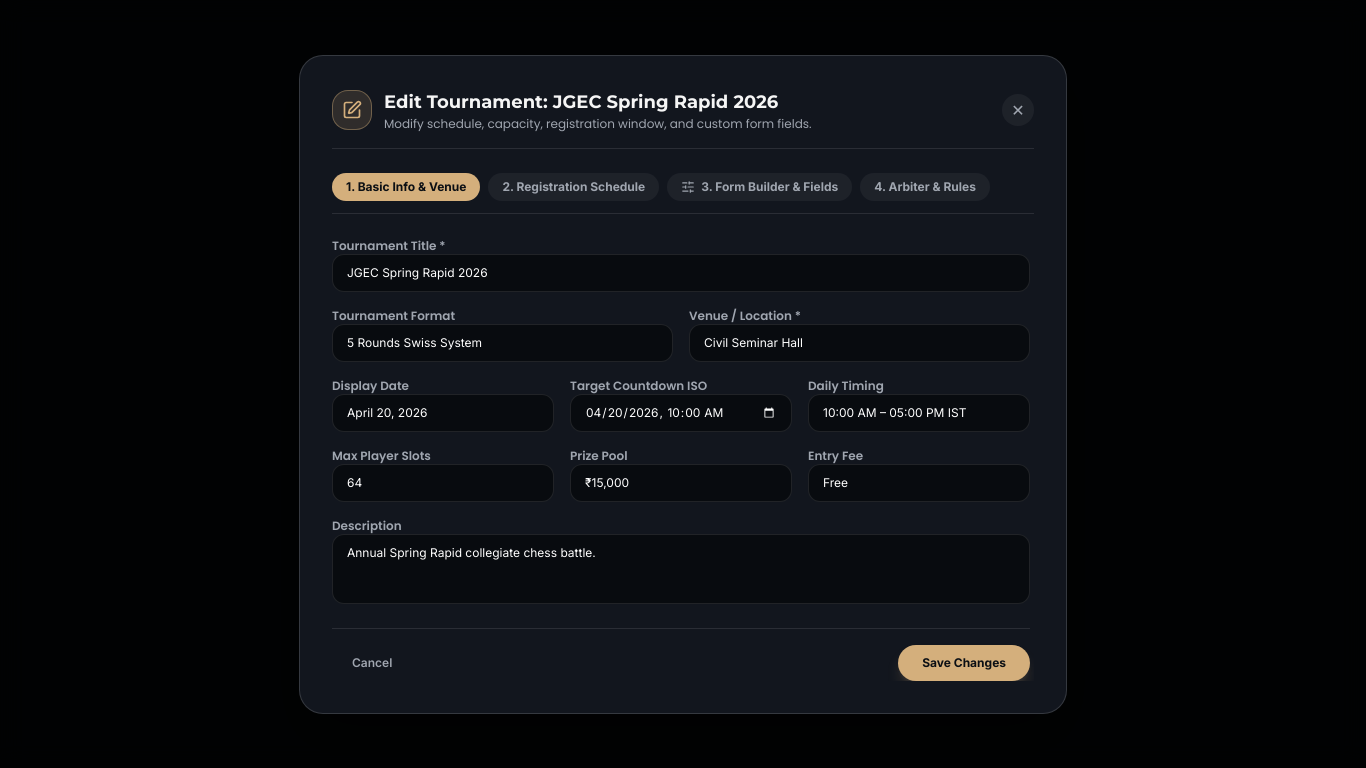
Test: TournamentFormModal Component › switches between tabs and displays respective section fields
The image size is (1366, 768).
// Switch to Tab 2: Registration Schedule
Click the button "2. Registration Schedule" at (574, 186), box [488,172,659,200]
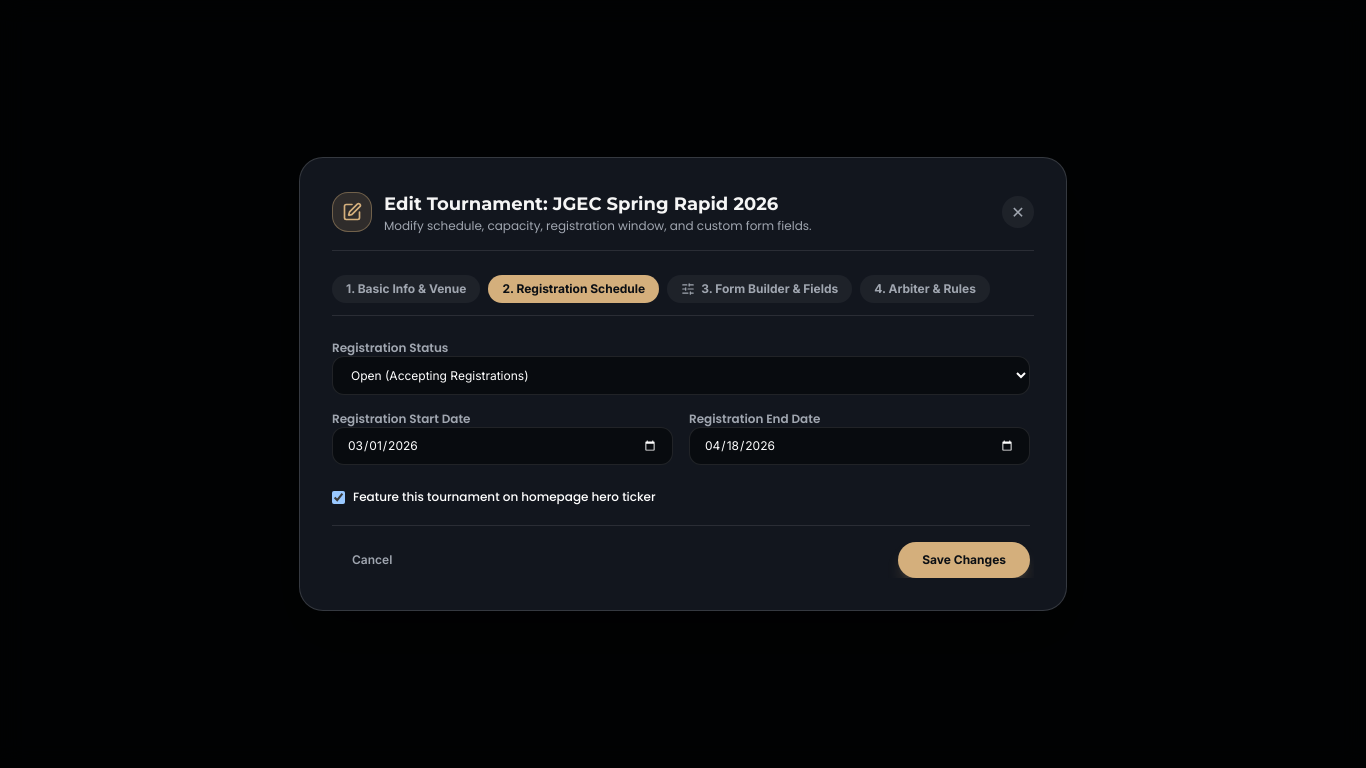
Now the text "Registration Status" is shown, box [332,340,448,356]
Now the text "Feature this tournament on homepage hero ticker" is shown, box [353,489,656,505]
// Switch to Tab 3: Form Builder & Fields
Click the button "3. Form Builder & Fields" at (760, 289), box [667,275,852,303]
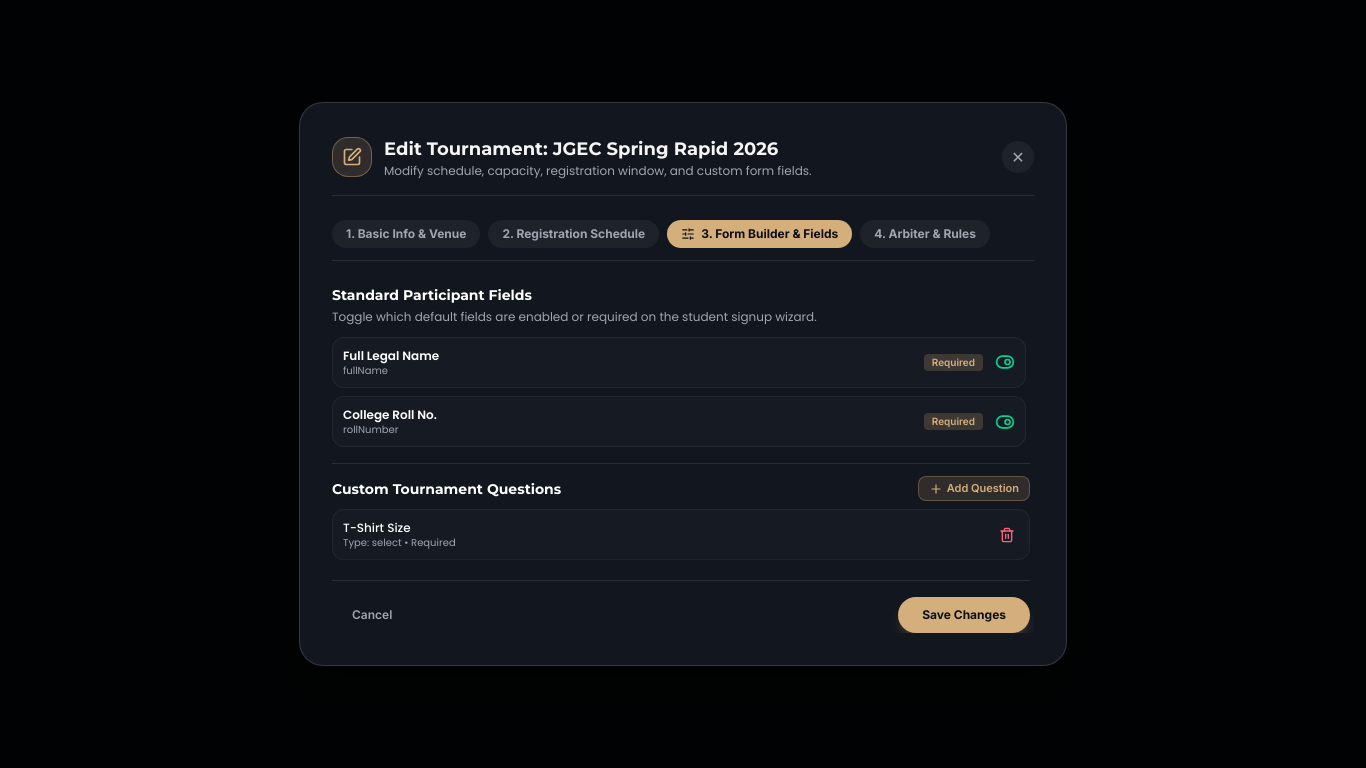
Now the heading "Standard Participant Fields" is shown, box [332,286,532,304]
Now the heading "Custom Tournament Questions" is shown, box [332,479,561,499]
Now the text "T-Shirt Size" is shown, box [343,519,411,536]
// Switch to Tab 4: Arbiter & Rules
Click the button "4. Arbiter & Rules" at (925, 234), box [860,220,990,248]
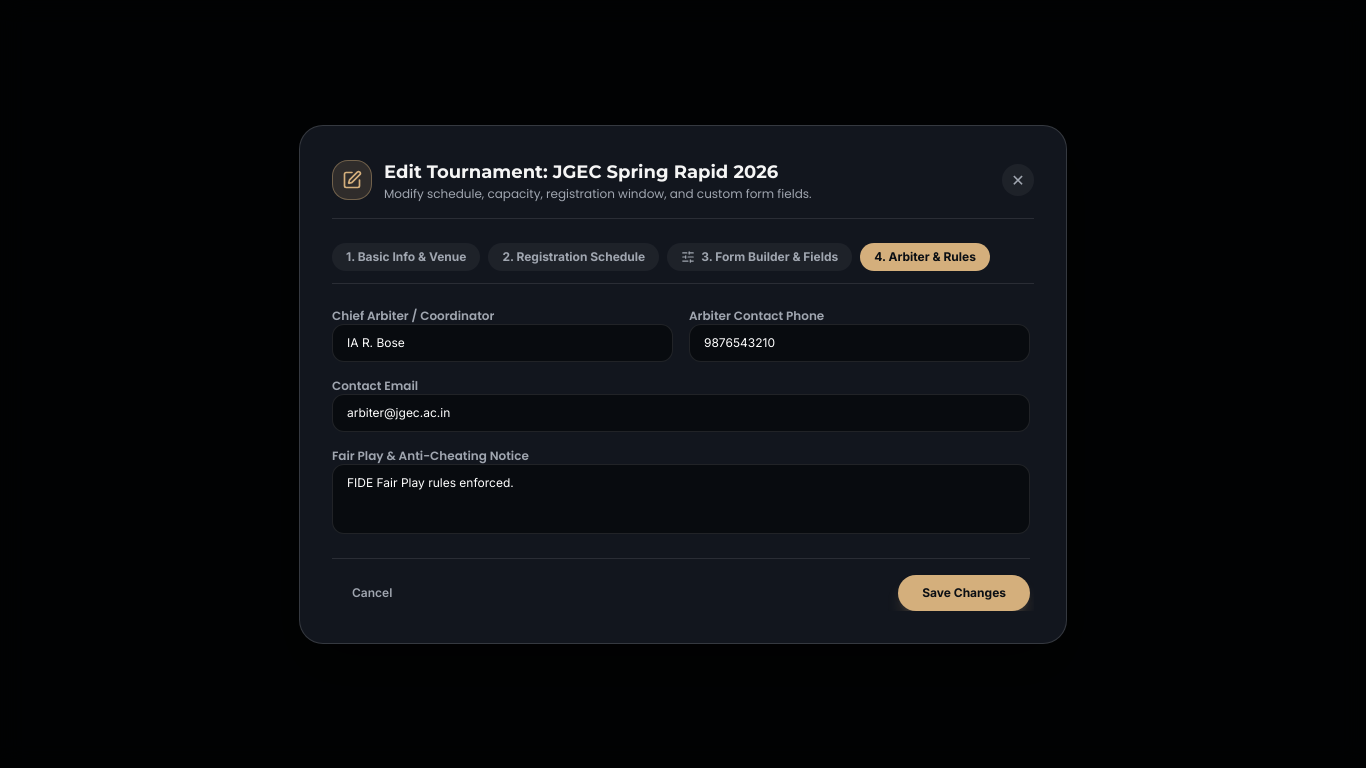
Now the text "Chief Arbiter / Coordinator" is shown, box [332,308,494,324]
Now the field showing "IA R. Bose" below "Chief Arbiter / Coordinator" is shown, box [332,324,673,362]
